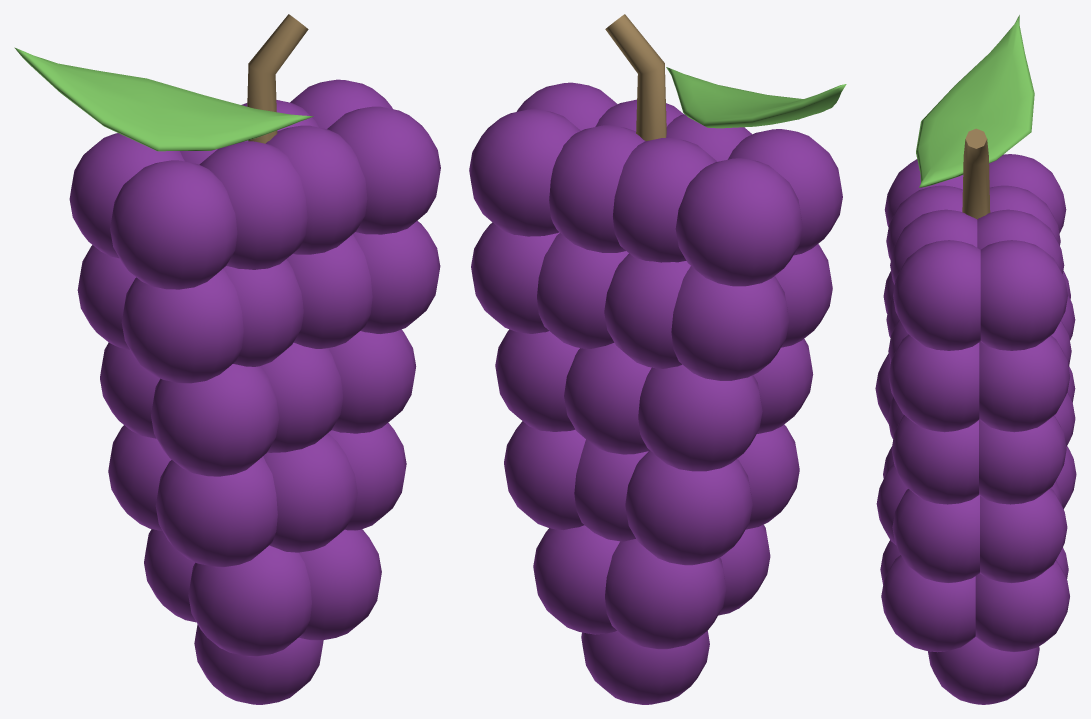
Rendered from grapes.glb.
3 views of the same model, side by side, from view 1: azimuth 30°, elevation 25°; view 2: azimuth 150°, elevation 25°; view 3: azimuth 270°, elevation 25° (orthographic). The views are drawn at different scales.
Parts seen in each view (by area): view 1: grapes; view 2: grapes; view 3: grapes.
Part boxes in pixels (x1,y1,x2,y2): grapes: (14, 14, 440, 704); grapes: (469, 14, 846, 704); grapes: (875, 15, 1076, 704).
Bounding box in the file's own units: 0.4125 × 0.722 × 0.2221.
